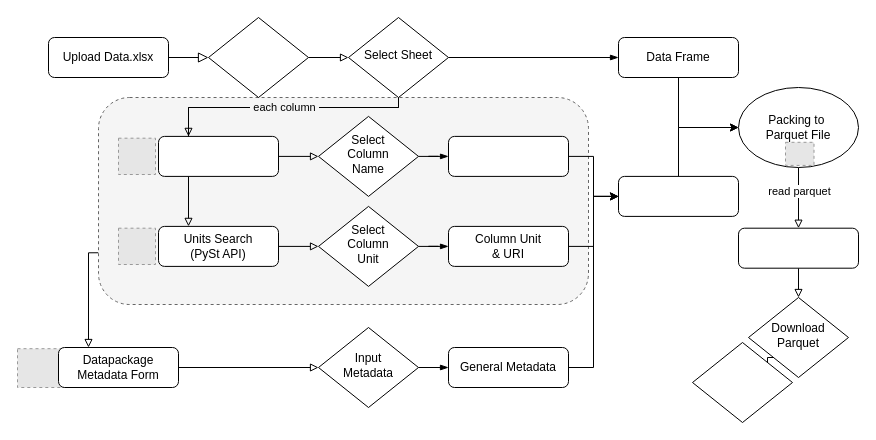
This 876x440 diagram has some shape labels left out. Grey dashed boxes stand in for pictures. The centre of each missing label's shape, as x and y in pixels:
"Column Name & URI" goes at point 508,155.
"DdS Open Metadata" goes at point 742,382.
"Metadata" goes at point 678,195.
"Preview Data & Metadata" goes at point 798,247.
"Select Language" goes at point 258,57.
"Suggest Column Names (PySt API)" goes at point 218,155.
